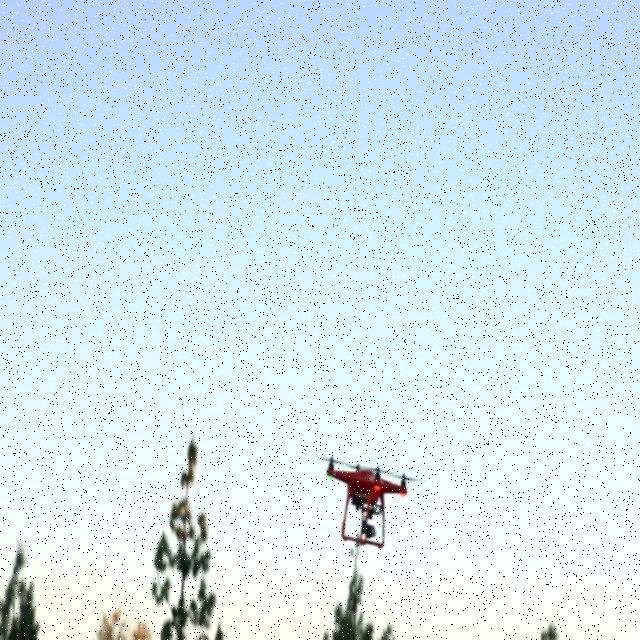UAV: (312, 455, 428, 549)
